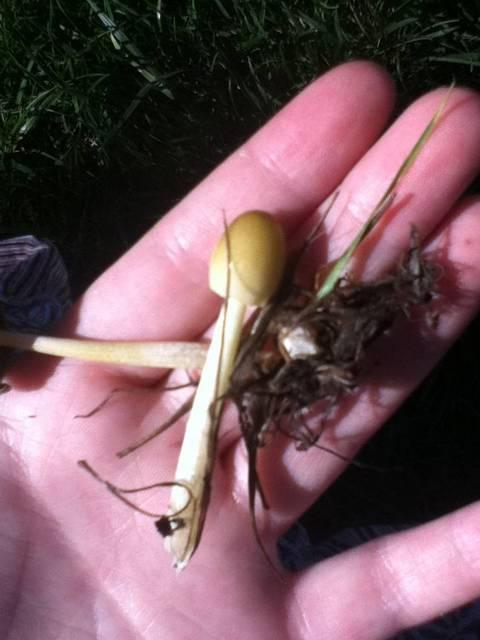Edible Mushroom: (155, 208, 288, 572)
